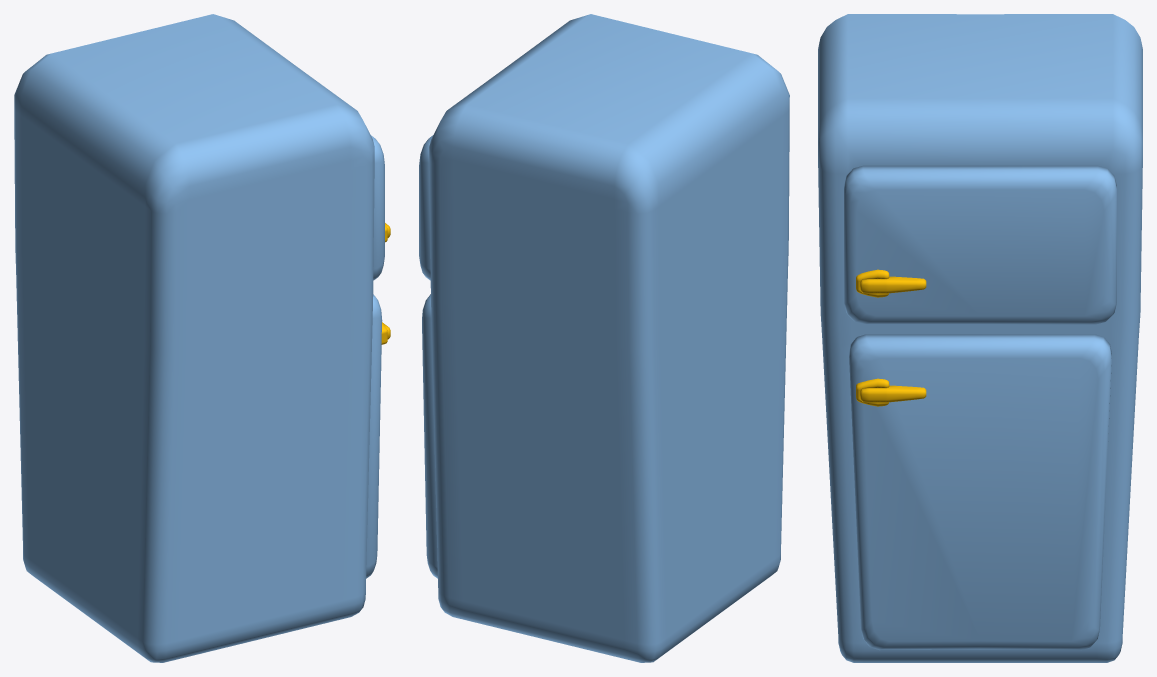
File: Fridge.fbx
The picture shows the model from 3 angles, left to right: view 1: azimuth 30°, elevation 25°; view 2: azimuth 150°, elevation 25°; view 3: azimuth 270°, elevation 25°; orthographic projection. The views are drawn at different scales.
Parts seen in each view (by area): view 1: fridge, fridgeDoorBottom, fridgeDoorTop; view 2: fridge, fridgeDoorBottom, fridgeDoorTop; view 3: fridge, fridgeDoorBottom, fridgeDoorTop.
Boxes of the visible parts, x1,y1,x2,y2 form: fridge: [14, 14, 374, 662]; fridgeDoorBottom: [366, 294, 390, 578]; fridgeDoorTop: [371, 135, 390, 280]; fridge: [429, 14, 789, 662]; fridgeDoorBottom: [422, 294, 437, 578]; fridgeDoorTop: [419, 135, 433, 280]; fridge: [818, 14, 1142, 662]; fridgeDoorBottom: [849, 334, 1111, 650]; fridgeDoorTop: [844, 165, 1116, 324].
Bounding box in the file's own units: 265 × 519 × 275.
